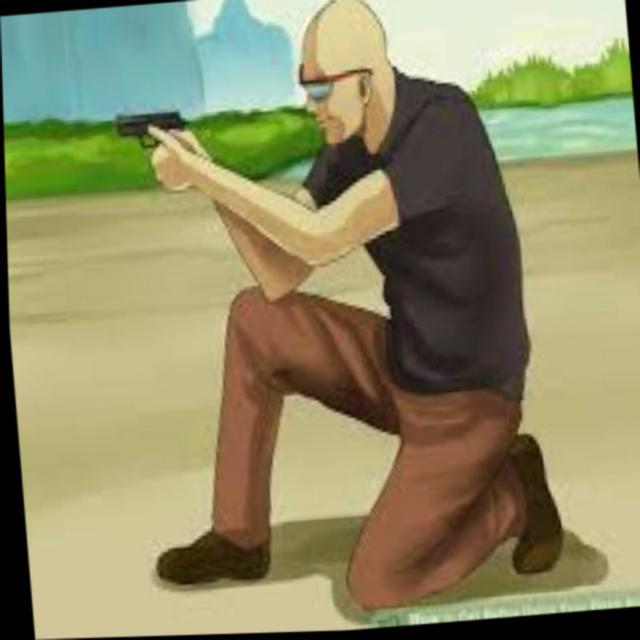weapon: (113, 106, 188, 158)
